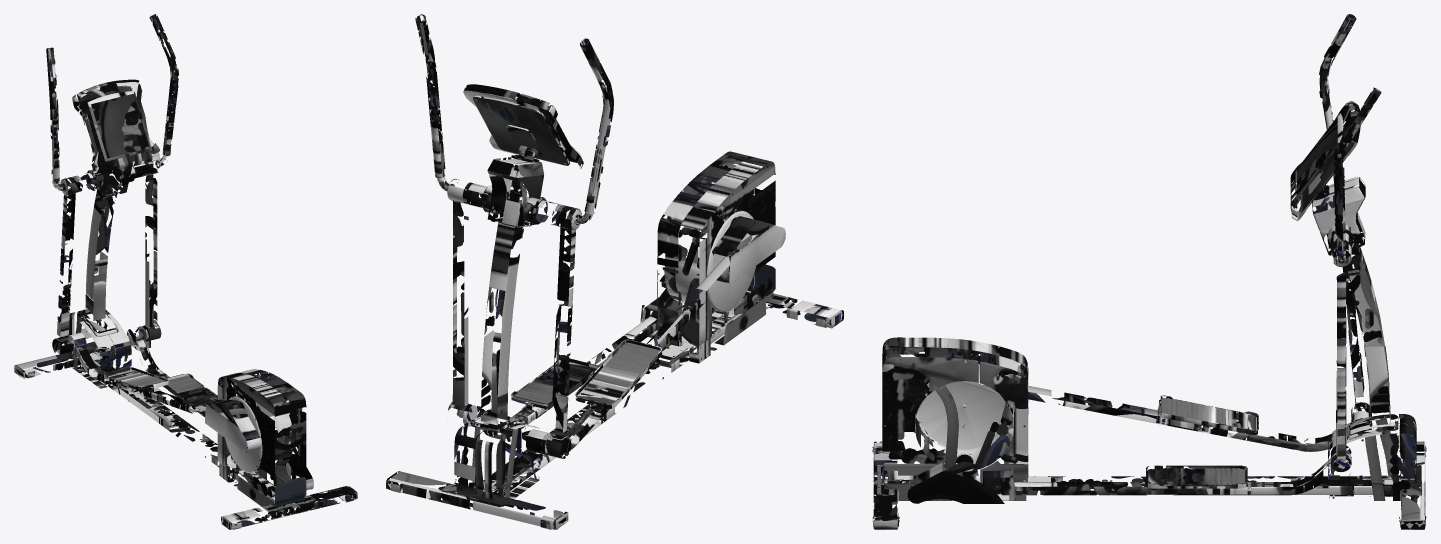
3 renders of one model, left to right at view 1: azimuth 30°, elevation 25°; view 2: azimuth 150°, elevation 25°; view 3: azimuth 270°, elevation 25°, orthographic. The views are drawn at different scales.
Parts seen in each view (by area): view 1: solid_006, solid_005, glass_001, solid_007, solid_004; view 2: solid_006, solid_005, solid_007, solid_004; view 3: solid_006, solid_005, solid_007, glass_001, solid_004.
Boxes of the visible parts, bbox=[...] form: solid_006: bbox=[52, 79, 313, 508]; solid_005: bbox=[16, 163, 355, 529]; glass_001: bbox=[91, 94, 149, 158]; solid_007: bbox=[14, 15, 357, 529]; solid_004: bbox=[28, 14, 353, 525]; solid_006: bbox=[447, 84, 785, 506]; solid_005: bbox=[388, 125, 841, 529]; solid_007: bbox=[386, 14, 843, 529]; solid_004: bbox=[391, 15, 824, 524]; solid_006: bbox=[882, 101, 1416, 503]; solid_005: bbox=[873, 171, 1425, 527]; solid_007: bbox=[873, 14, 1425, 529]; glass_001: bbox=[1296, 117, 1337, 195]; solid_004: bbox=[872, 14, 1426, 521].
Bounding box in the file's own units: 0.5057 × 1.25 × 1.42.
